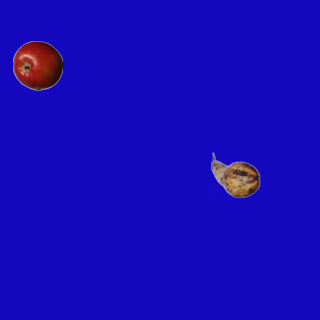Apple Braeburn: (12, 40, 62, 90)
Pear Abate: (210, 150, 260, 200)
